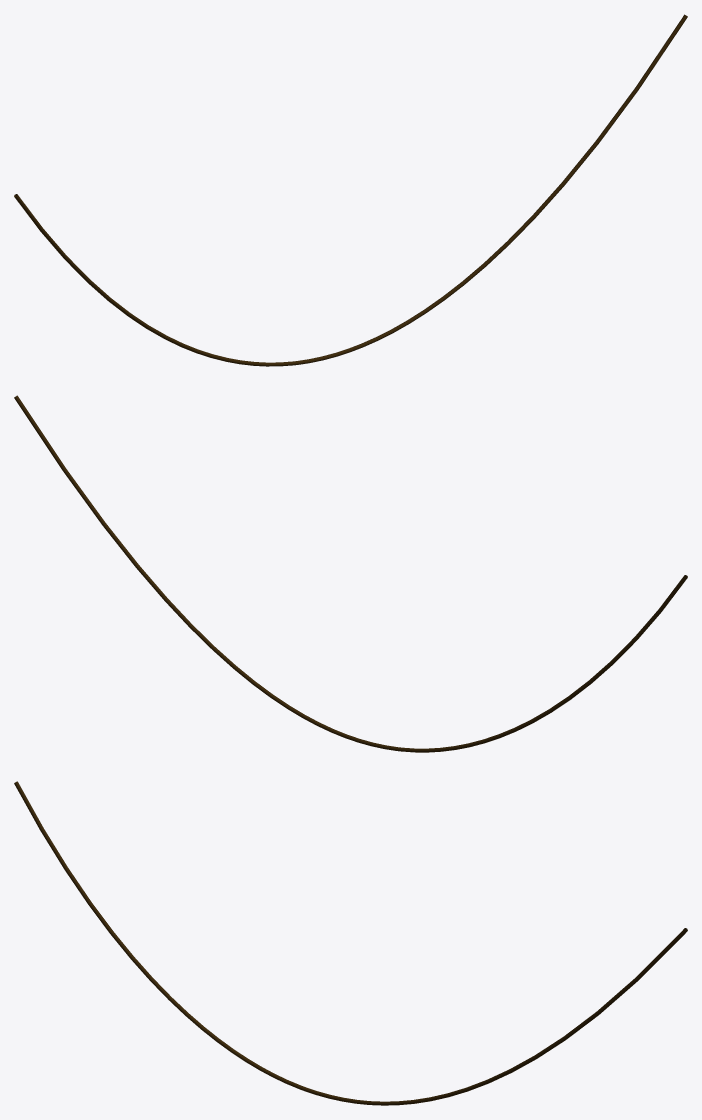
The model's file is SM_Vines01.fbx.
3 renders of one model, top to bottom at view 1: azimuth 30°, elevation 25°; view 2: azimuth 150°, elevation 25°; view 3: azimuth 330°, elevation 25°, orthographic.
Visible parts, largest first — view 1: Vine01; view 2: Vine01; view 3: Vine01.
Part boxes in pixels (x1,y1,x2,y2): Vine01: (14, 14, 687, 366); Vine01: (14, 395, 687, 752); Vine01: (14, 781, 687, 1105).
Size of the model in its own units: 1462 by 21.28 by 541.
